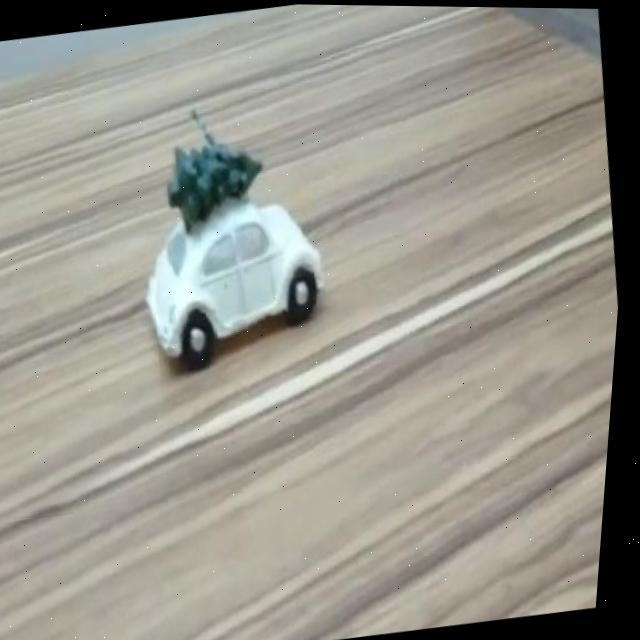vehicle: (142, 198, 341, 368)
